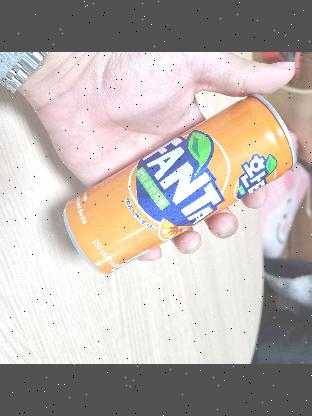Can: (61, 95, 295, 274)
